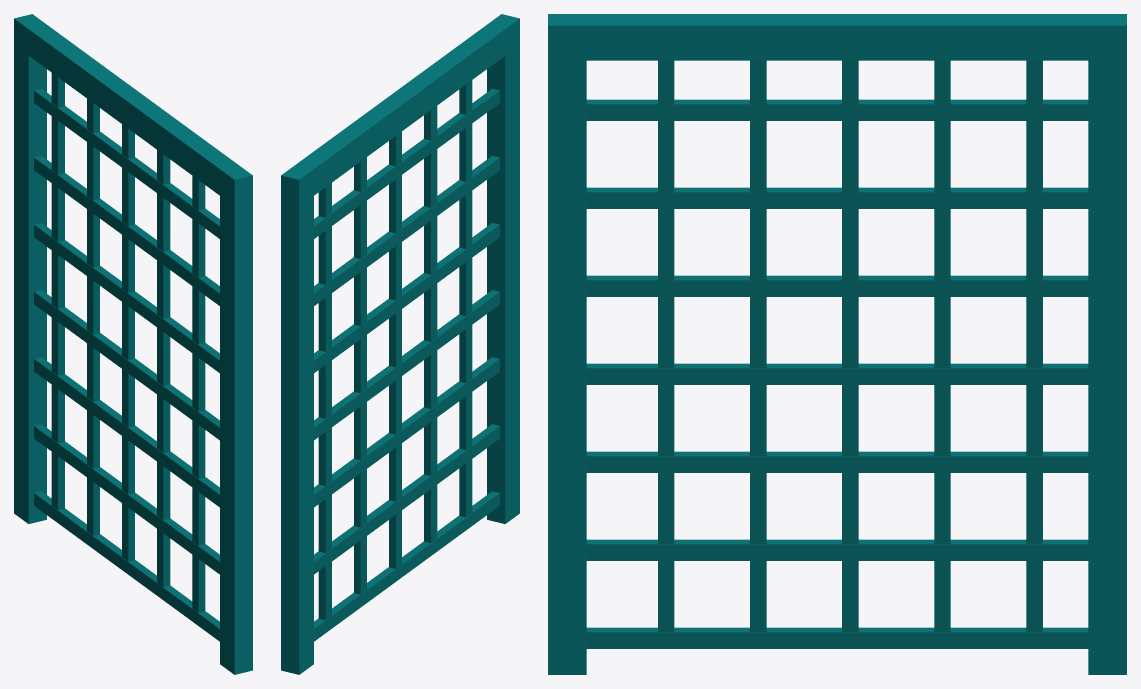
File: Fence_1_C_2.glb
3 renders of one model, left to right at view 1: azimuth 30°, elevation 25°; view 2: azimuth 150°, elevation 25°; view 3: azimuth 270°, elevation 25°, orthographic. The views are drawn at different scales.
Visible parts, largest first — view 1: Fence_1_C_2; view 2: Fence_1_C_2; view 3: Fence_1_C_2.
Boxes of the visible parts, x1,y1,x2,y2 form: Fence_1_C_2: [14, 14, 252, 674]; Fence_1_C_2: [281, 14, 519, 674]; Fence_1_C_2: [548, 14, 1126, 674].
Bounding box in the file's own units: 0.096 × 2.48 × 2.
Materials: 1 (1 with a texture image).
